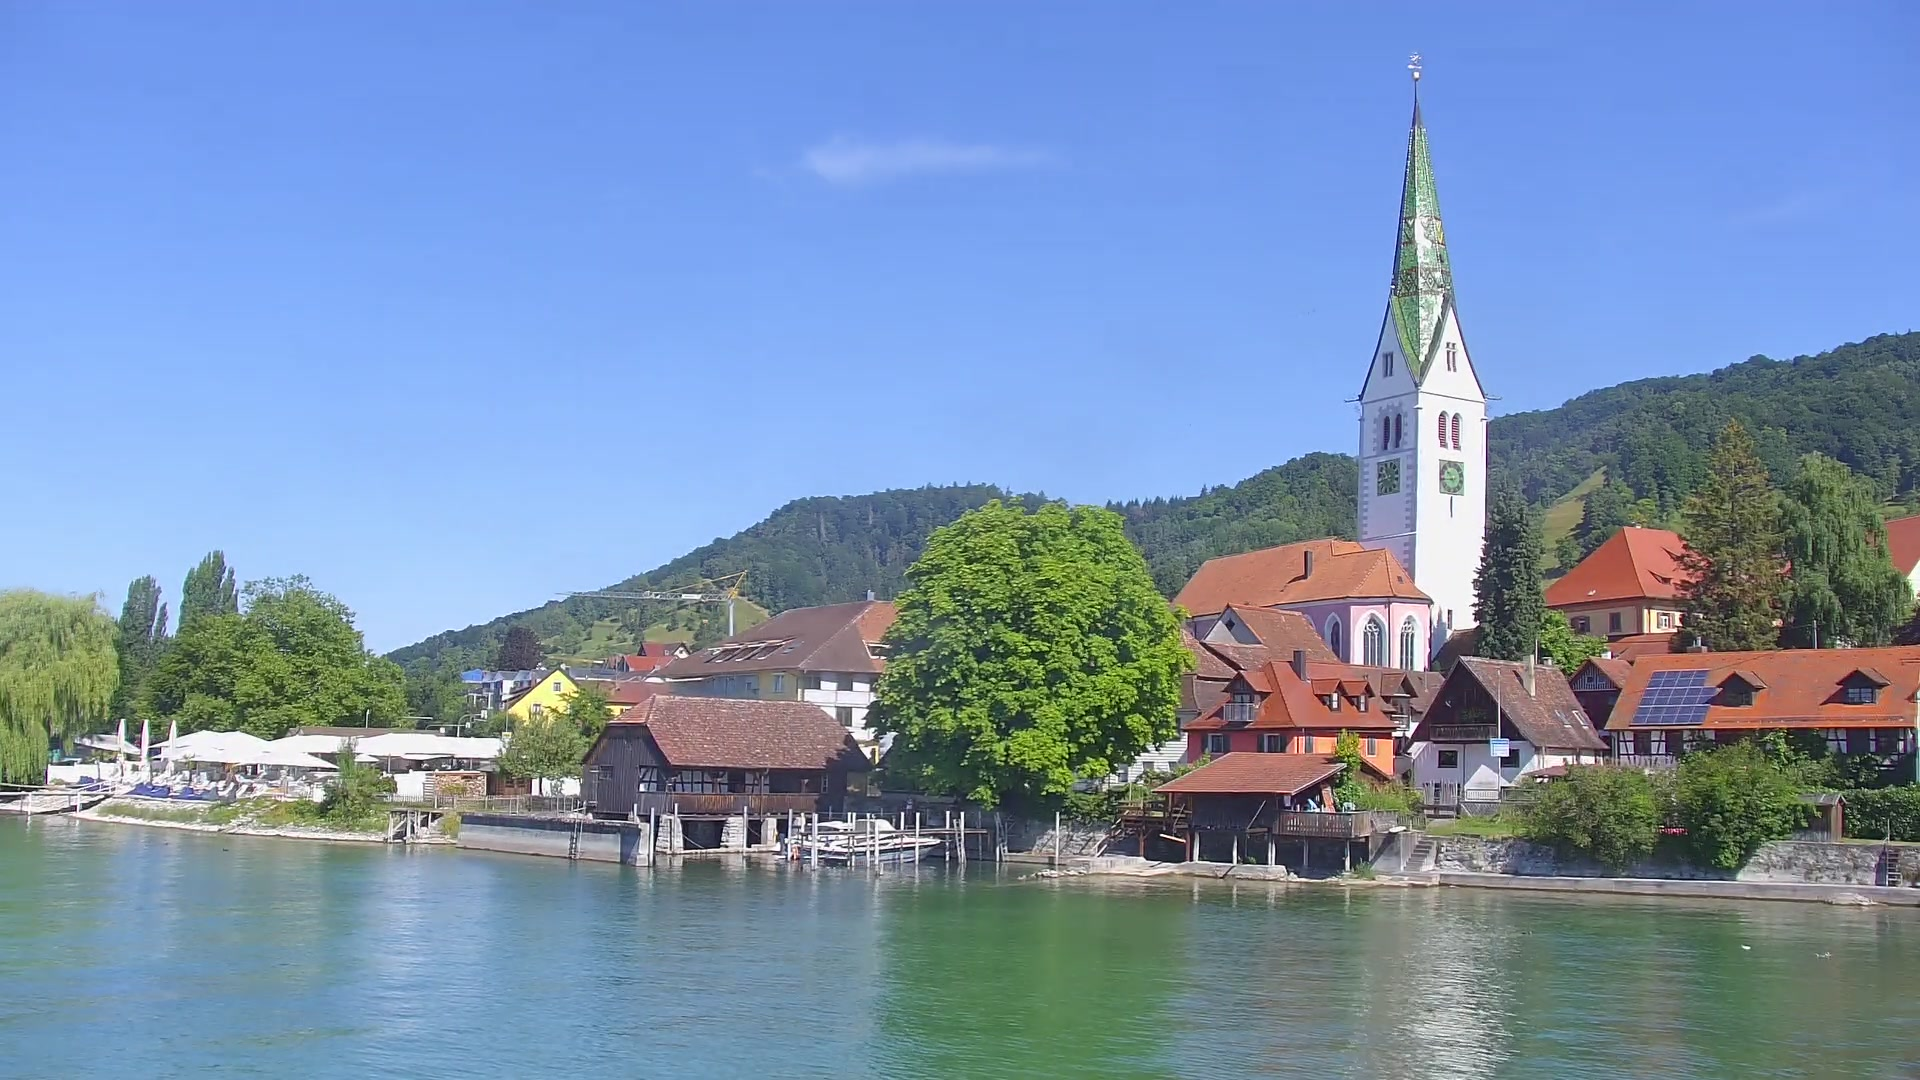sea: (814, 818, 939, 864)
